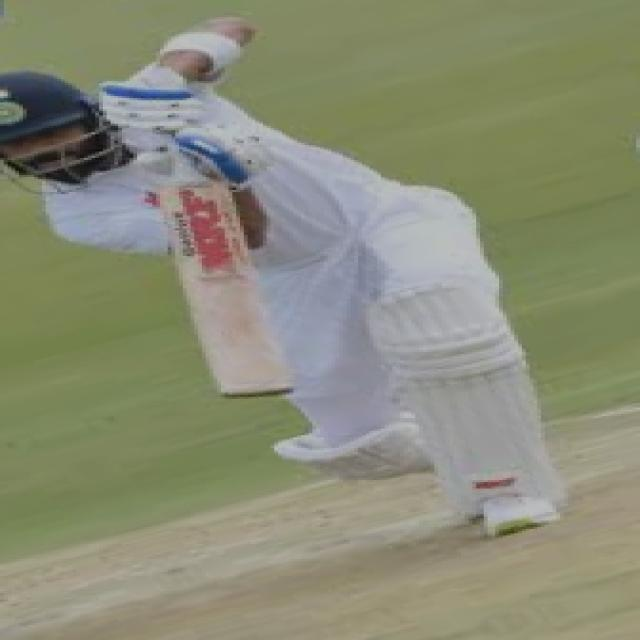bat: (141, 147, 300, 407)
toe: (220, 381, 296, 403)
